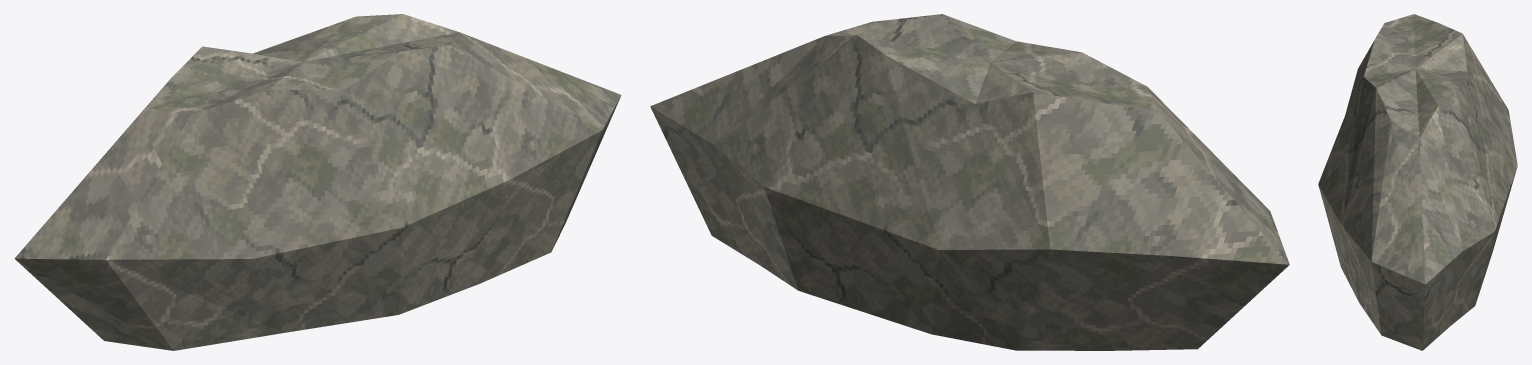
Rendered from Masso_08_Allungato.obj.
3 views of the same model, side by side, from view 1: azimuth 30°, elevation 25°; view 2: azimuth 150°, elevation 25°; view 3: azimuth 270°, elevation 25° (orthographic). The views are drawn at different scales.
Parts seen in each view (by area): view 1: Masso_08_Allungato; view 2: Masso_08_Allungato; view 3: Masso_08_Allungato.
Boxes of the visible parts, x1,y1,x2,y2 form: Masso_08_Allungato: [14, 14, 621, 350]; Masso_08_Allungato: [650, 14, 1289, 350]; Masso_08_Allungato: [1318, 14, 1517, 350].
Size of the model in its own units: 3.2 by 1.2 by 1.15.
